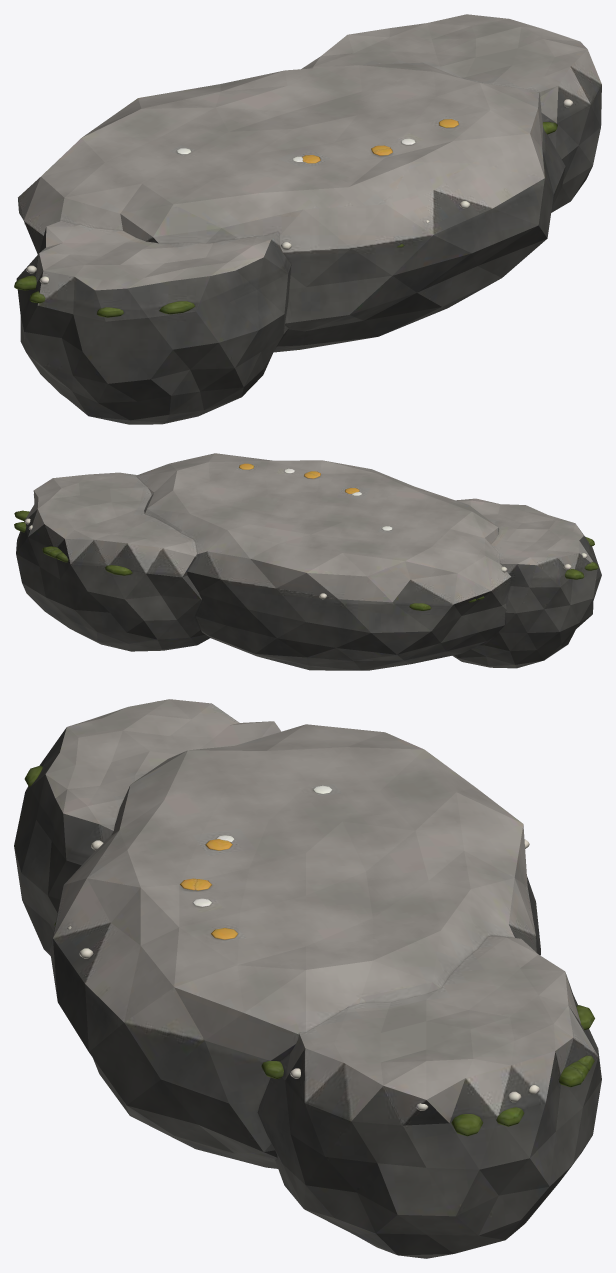
File: sea_rock.glb
3 renders of one model, top to bottom at view 1: azimuth 30°, elevation 25°; view 2: azimuth 150°, elevation 25°; view 3: azimuth 270°, elevation 25°, orthographic. The views are drawn at different scales.
Visible parts, largest first — view 1: sea_rock; view 2: sea_rock; view 3: sea_rock.
Boxes of the visible parts, x1=… form: sea_rock: x1=14, y1=14, x2=601, y2=424; sea_rock: x1=14, y1=453, x2=601, y2=670; sea_rock: x1=14, y1=699, x2=601, y2=1258.
Bounding box in the file's own units: 2.49 × 0.7292 × 1.46.
1 material, 1 textured.
